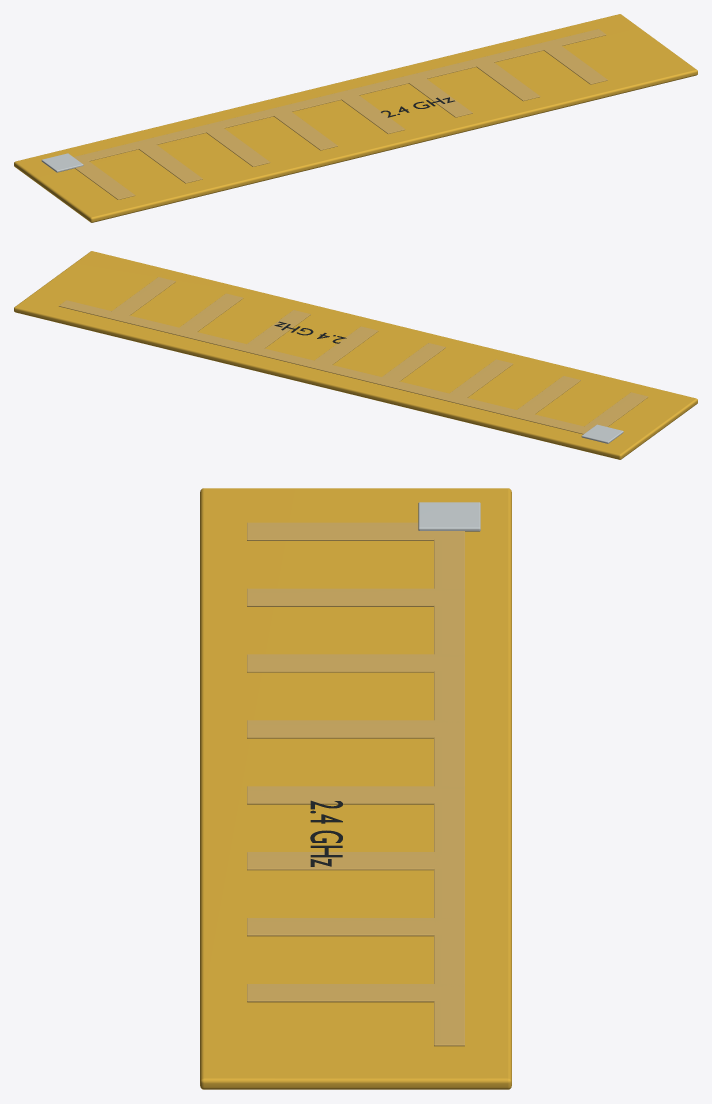
Rendered from strip.glb.
The picture shows the model from 3 angles, top to bottom: view 1: azimuth 30°, elevation 25°; view 2: azimuth 150°, elevation 25°; view 3: azimuth 270°, elevation 25°; orthographic projection. The views are drawn at different scales.
Visible parts, largest first — view 1: strip / Kapton, strip / Gold, strip / Tin; view 2: strip / Kapton, strip / Gold, strip / Tin; view 3: strip / Kapton, strip / Gold, strip / Tin.
Boxes of the visible parts, box(x1,y1,x2,y2) form: strip / Kapton: box(14, 14, 697, 222); strip / Gold: box(73, 29, 607, 199); strip / Tin: box(41, 153, 83, 172); strip / Kapton: box(14, 251, 697, 459); strip / Gold: box(59, 277, 648, 434); strip / Tin: box(581, 424, 623, 443); strip / Kapton: box(200, 488, 511, 1089); strip / Gold: box(247, 522, 464, 1046); strip / Tin: box(418, 502, 480, 531).
Size of the model in its own units: 45 by 0.72 by 10.
